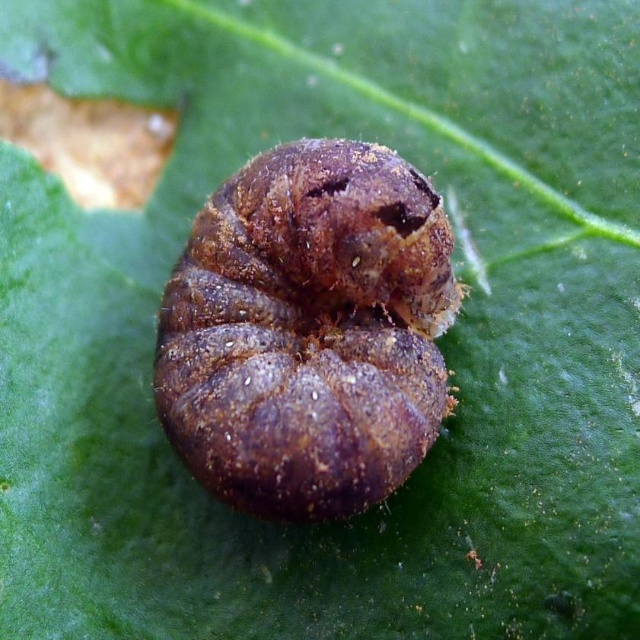Caterpillar: (149, 135, 477, 526)
